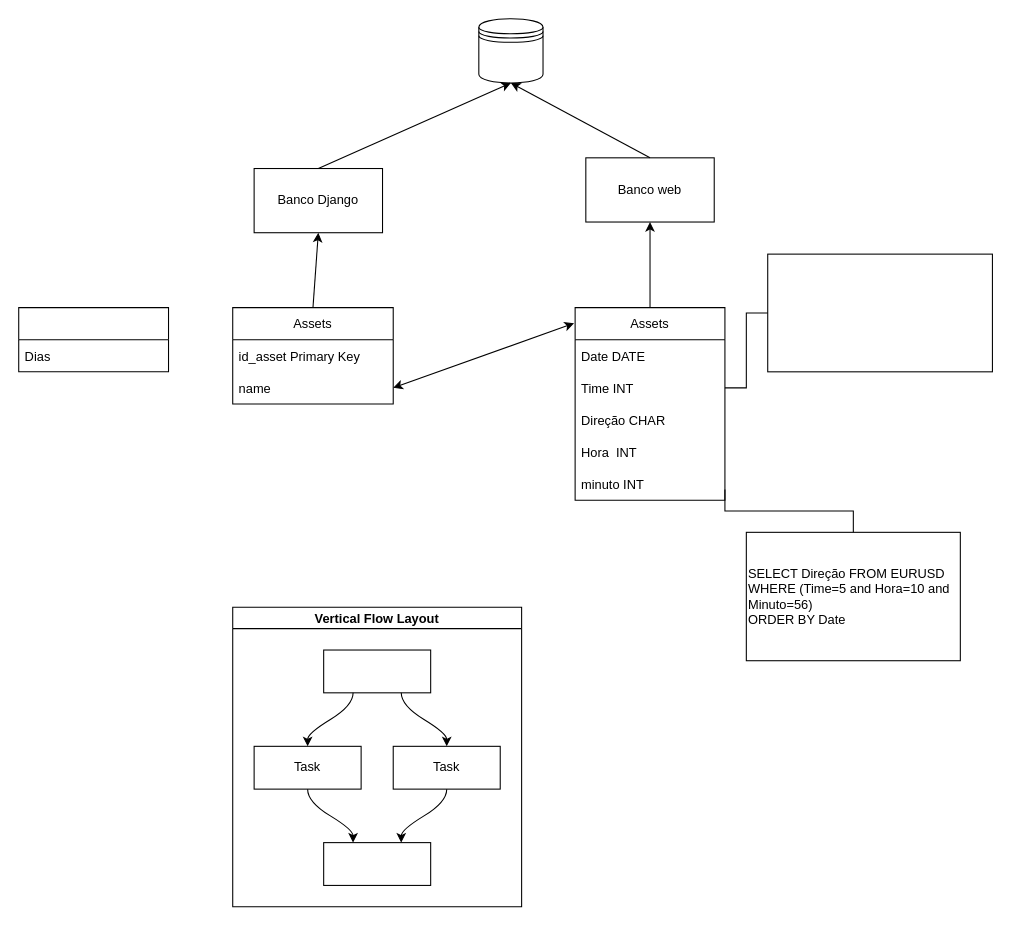
The diagram is 1011 pixels wide and 926 high, and some of its shapes have lost their labels. The box of each missing label's shape, as (x1, y1, x2, y2) in pixels:
Configs: (18, 307, 169, 372)
DELETE FROM EURUSD WHERE Data=Date_x: (767, 253, 992, 372)
End: (323, 842, 431, 885)
Start: (323, 649, 431, 693)
